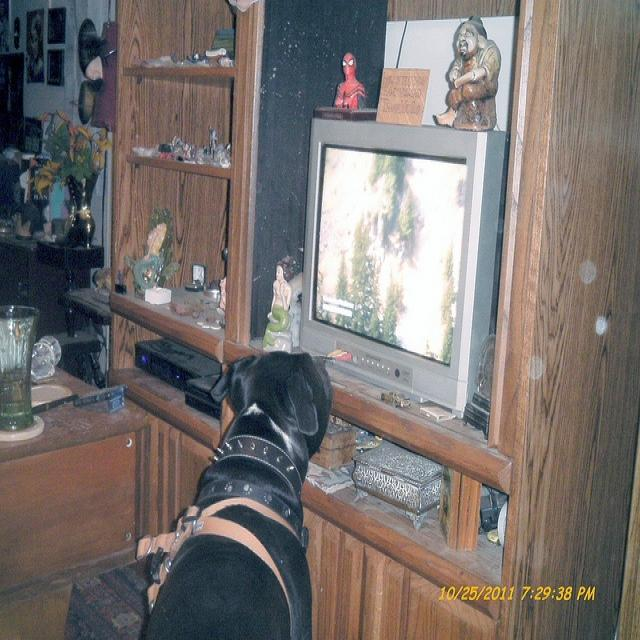dog: (133, 349, 333, 636)
